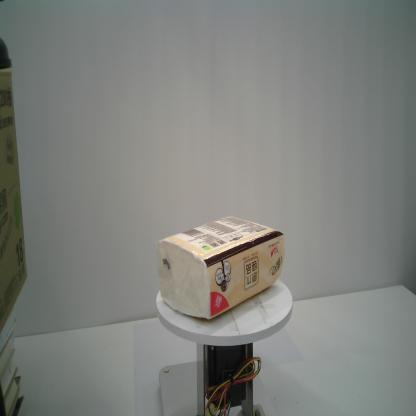Tissue: (157, 216, 284, 320)
